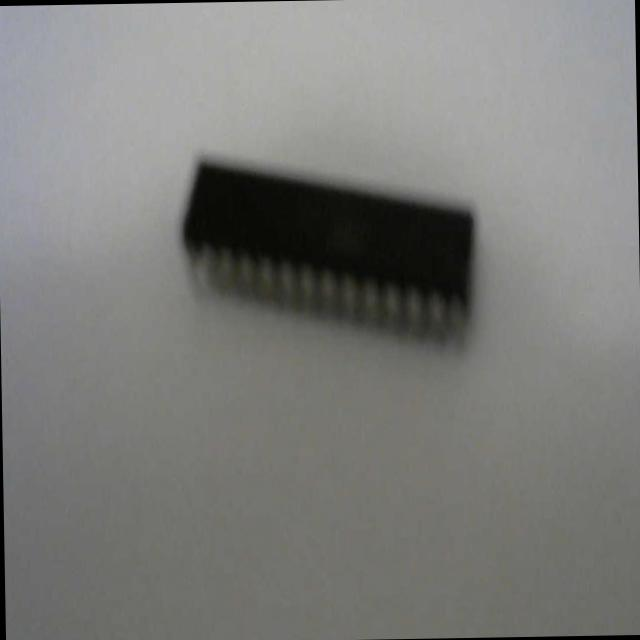atmega: (177, 144, 479, 356)
